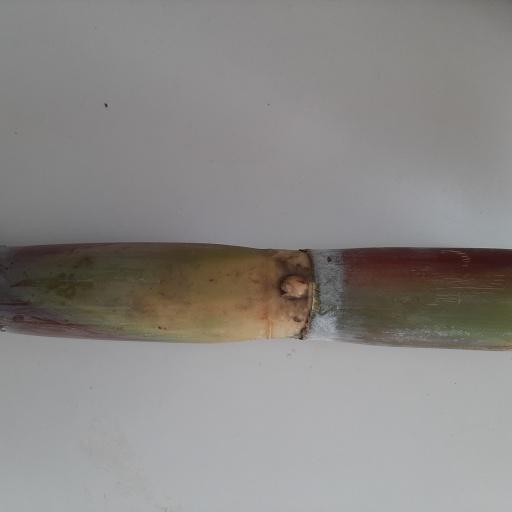Bud: (277, 274, 311, 300)
